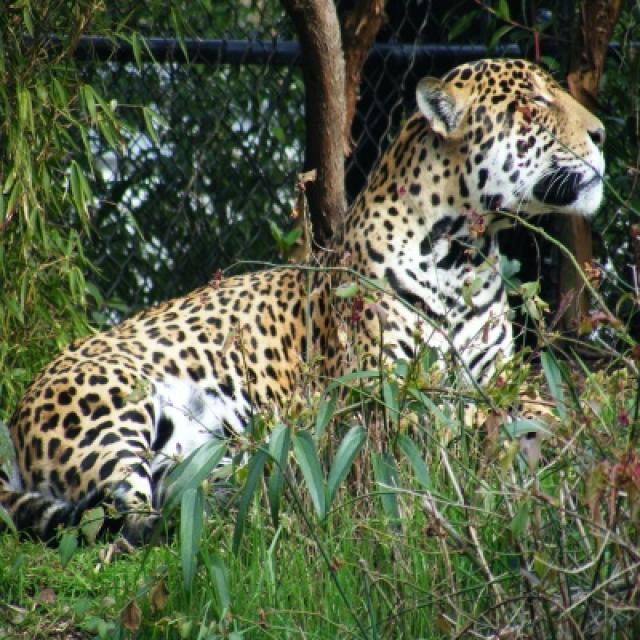Jaguar: (0, 61, 603, 586)
